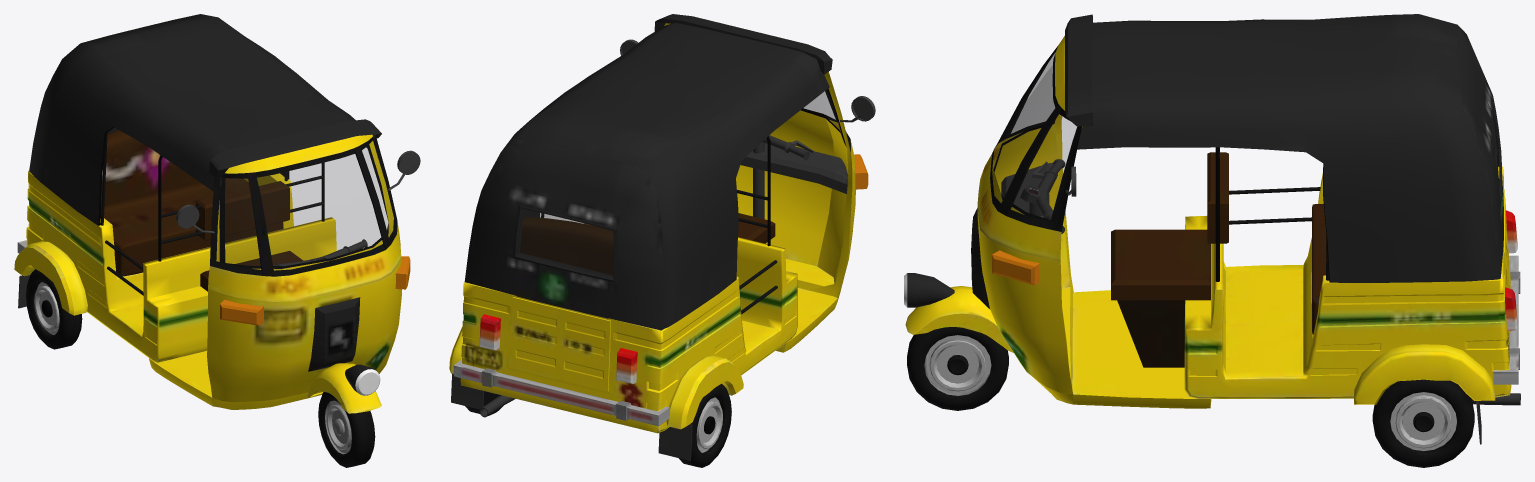
File: auto.glb
The picture shows the model from 3 angles, left to right: view 1: azimuth 30°, elevation 25°; view 2: azimuth 150°, elevation 25°; view 3: azimuth 270°, elevation 25°; orthographic projection. The views are drawn at different scales.
Parts seen in each view (by area): view 1: persp5; view 2: persp5; view 3: persp5.
Boxes of the visible parts, x1,y1,x2,y2 form: persp5: (14,14,420,467); persp5: (449,14,875,467); persp5: (904,14,1520,467).
Size of the model in its own units: 1.5 by 1.74 by 2.72.
Materials: 2 (1 with a texture image).
